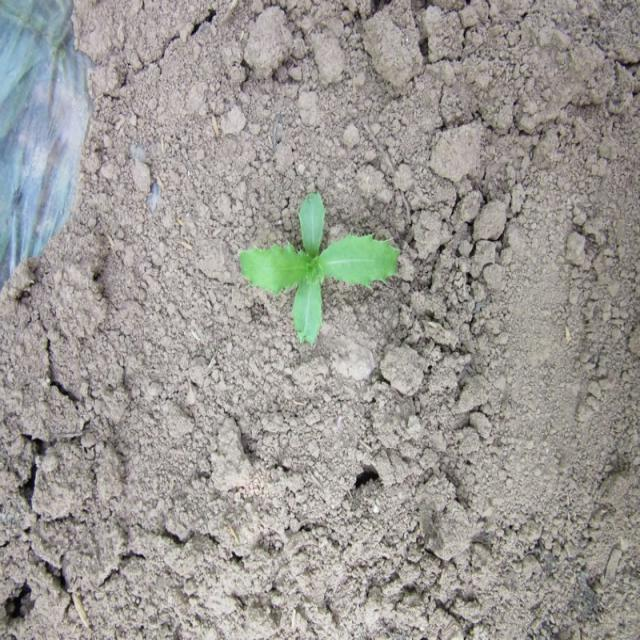cs: (232, 184, 403, 348)
